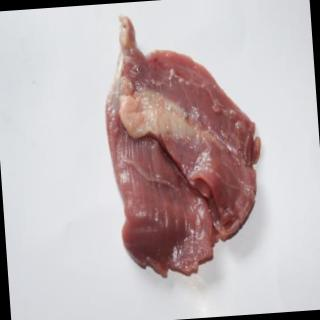Daging Sapi: (98, 8, 269, 283)
